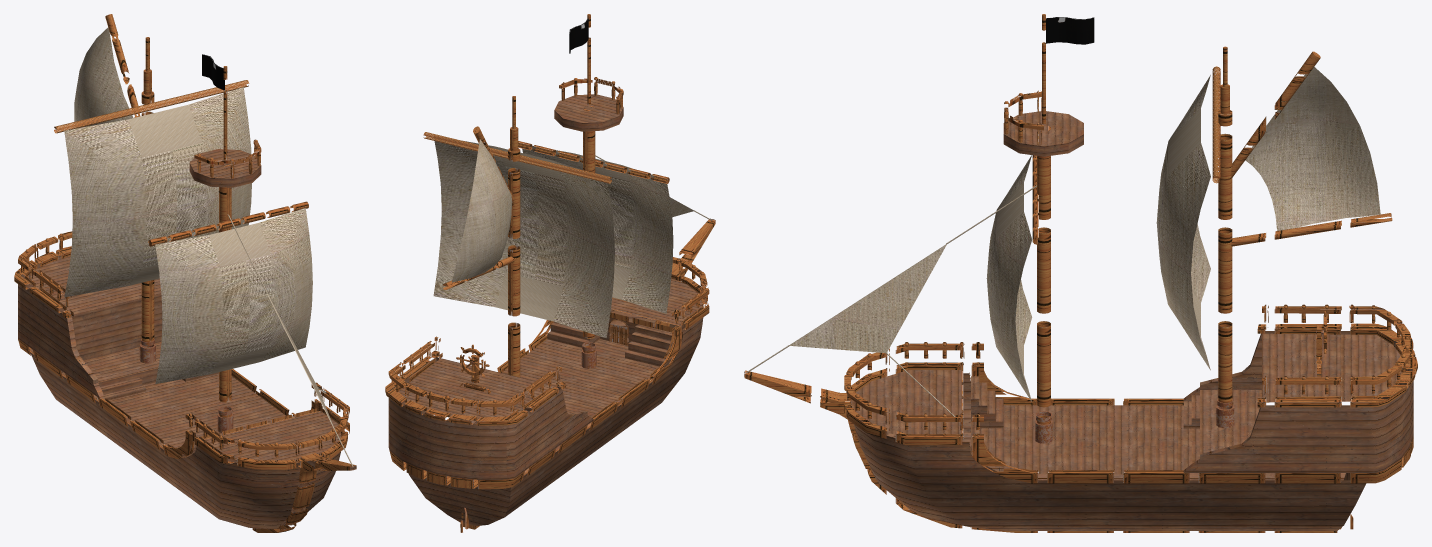
File: PirateShipTexturized.FBX
3 views of the same model, side by side, from view 1: azimuth 30°, elevation 25°; view 2: azimuth 150°, elevation 25°; view 3: azimuth 270°, elevation 25° (orthographic). The views are drawn at different scales.
Parts seen in each view (by area): view 1: ship; view 2: ship; view 3: ship.
Boxes of the visible parts, <box> form: ship: <box>14,14,356,532</box>; ship: <box>385,14,715,532</box>; ship: <box>744,14,1417,532</box>.
Bounding box in the file's own units: 31.79 × 69.58 × 82.67.
